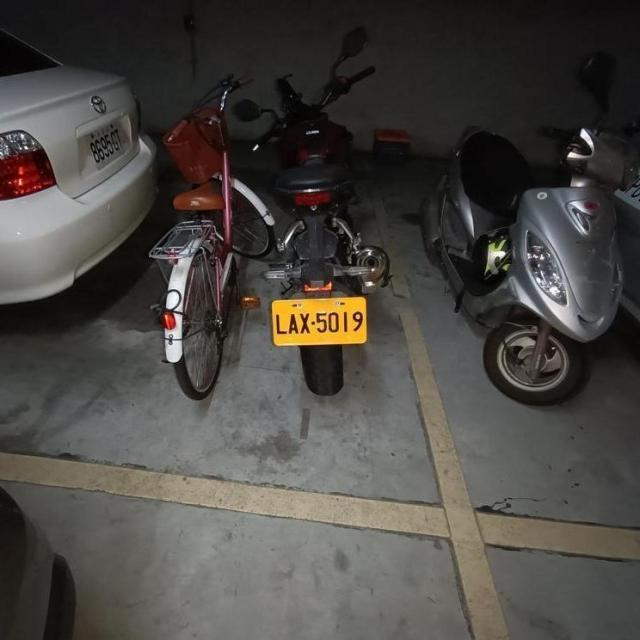W: (75, 112, 135, 178)
Y: (268, 289, 370, 353)
